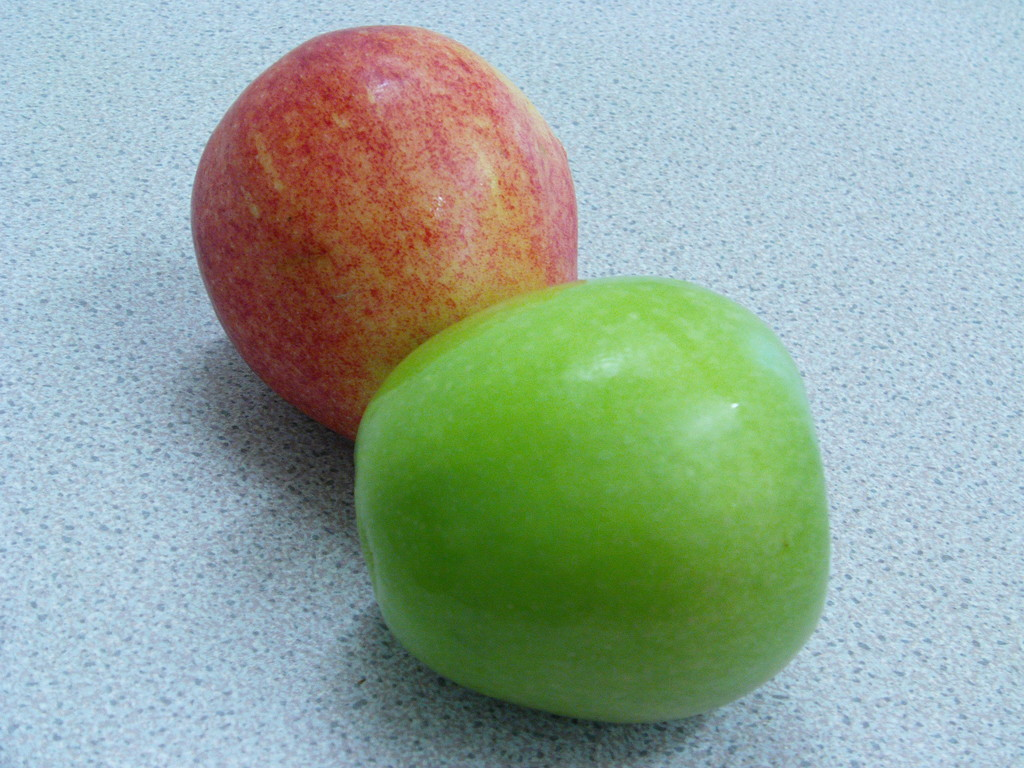Apple: (359, 275, 836, 753), (183, 25, 576, 435)
